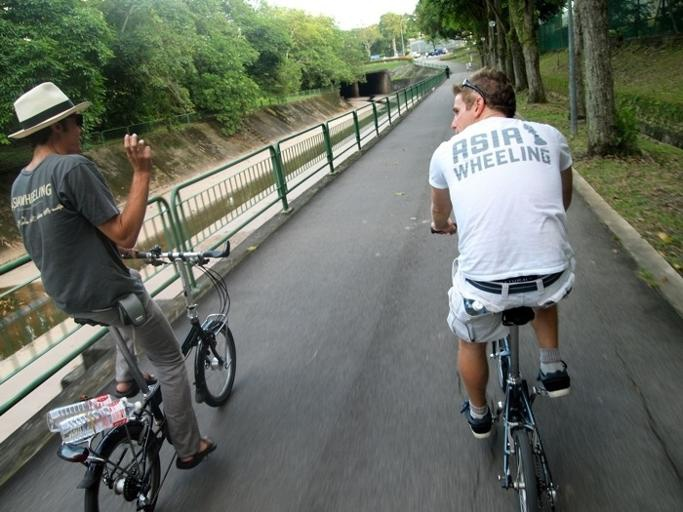non-vehicle: (53, 239, 238, 512), (427, 221, 566, 510)
